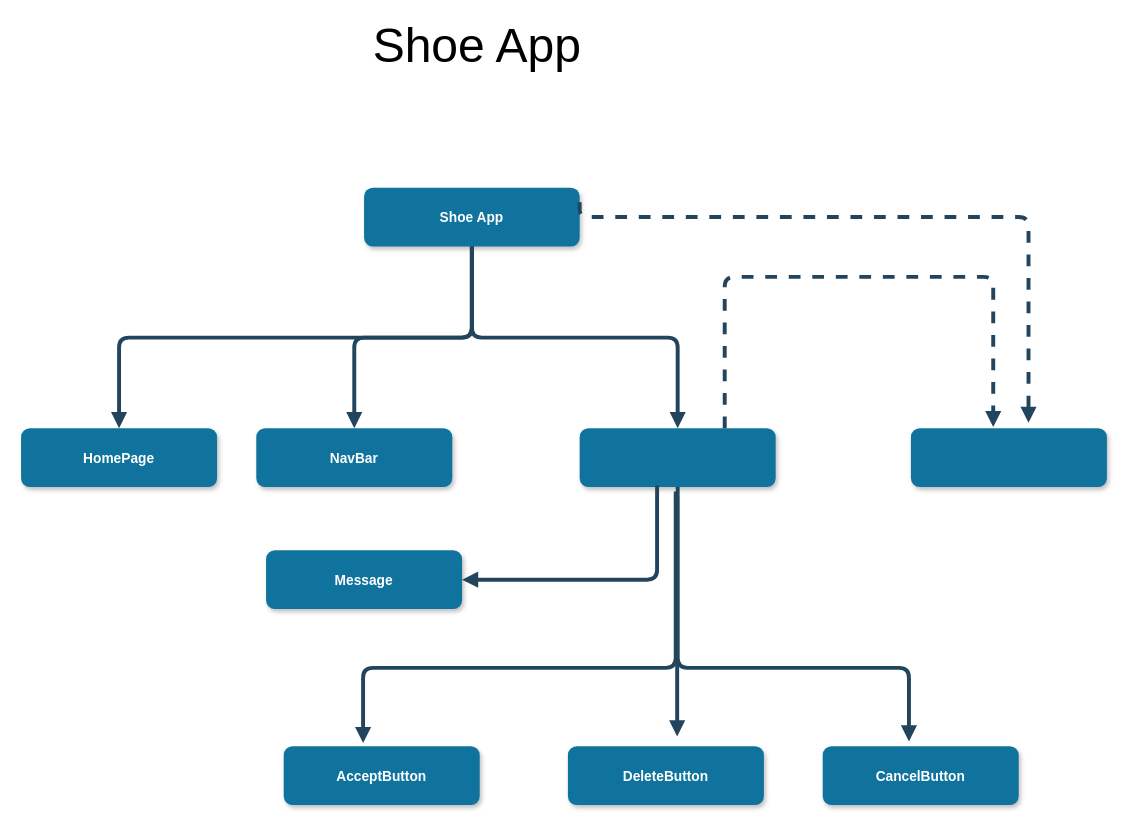
The diagram is 1129 pixels wide and 829 high, and some of its shapes have lost their labels. Each missing label, with the centre of its shape:
Edit /Add Shoe: pixel 678 458
MockApi: pixel 1009 458
